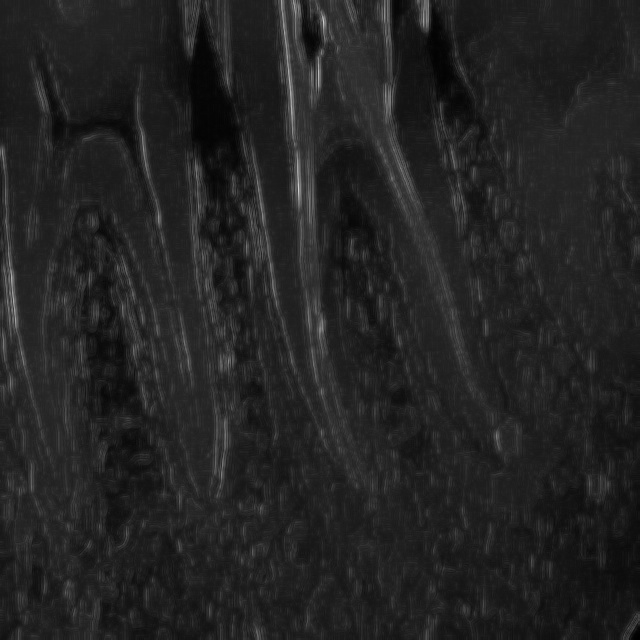Class 0- No endodontic treatment: (222, 47, 562, 551)
cavity: (2, 61, 244, 557)
